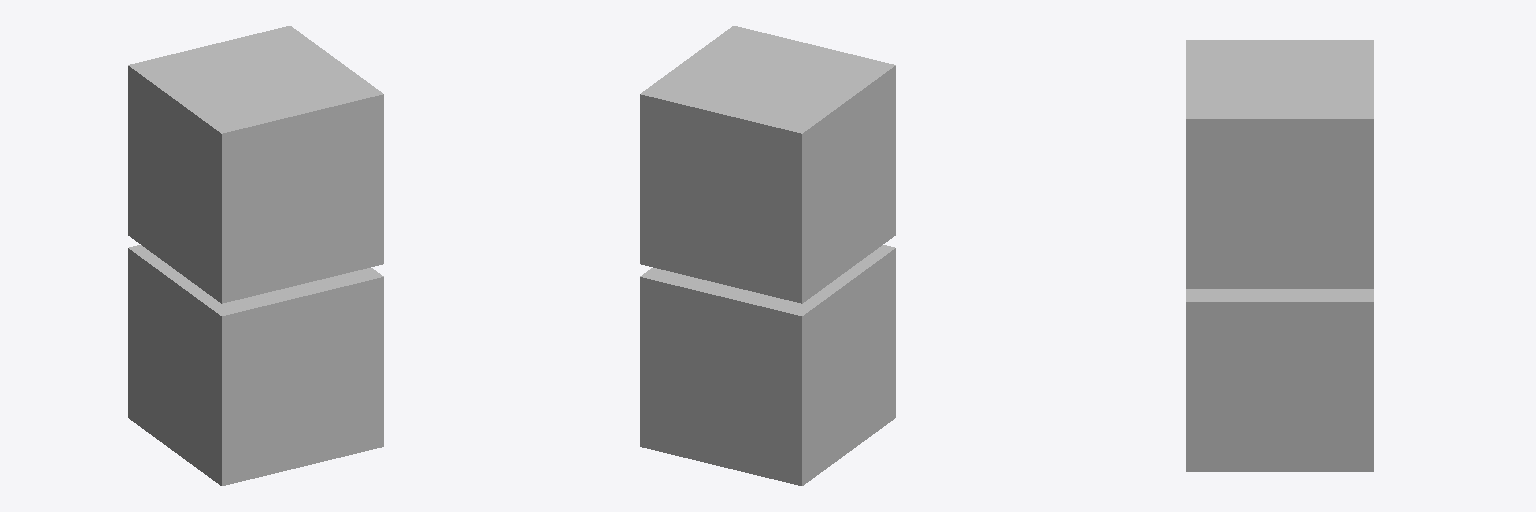
The model's file is double_cube.obj.
The picture shows the model from 3 angles: view 1: azimuth 30°, elevation 25°; view 2: azimuth 150°, elevation 25°; view 3: azimuth 270°, elevation 25°; orthographic projection.
Parts seen in each view (by area): view 1: Cube.001, Cube; view 2: Cube.001, Cube; view 3: Cube.001, Cube.
Boxes of the visible parts, box(x1,y1,x2,y2) form: Cube.001: box(128, 26, 383, 303); Cube: box(128, 245, 383, 485); Cube.001: box(640, 26, 895, 303); Cube: box(640, 245, 895, 485); Cube.001: box(1186, 40, 1373, 288); Cube: box(1186, 289, 1373, 471).
Bounding box in the file's own units: 2 × 4.15 × 2.